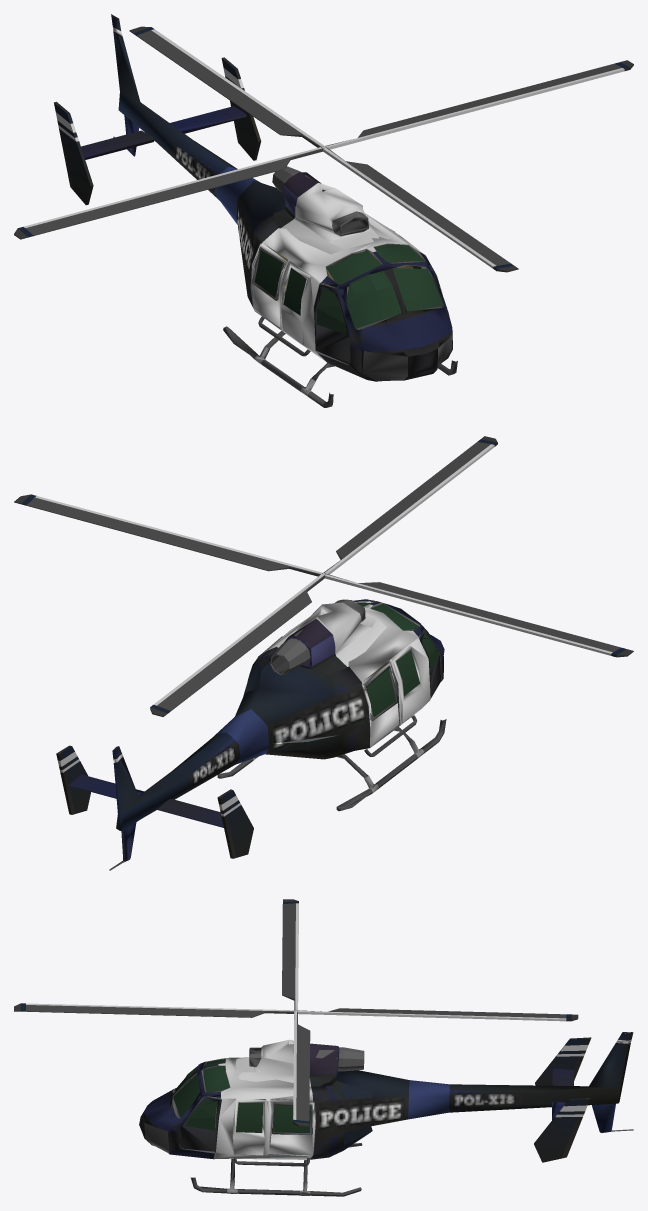
File: bw-police-heli.lod0.glb
3 views of the same model, one above another, from view 1: azimuth 30°, elevation 25°; view 2: azimuth 150°, elevation 25°; view 3: azimuth 270°, elevation 25° (orthographic). The views are drawn at different scales.
Visible parts, largest first — view 1: Object_6, Object_10; view 2: Object_6, Object_10; view 3: Object_6, Object_10.
Boxes of the visible parts, box(x1,y1,x2,y2) form: Object_6: box(14, 14, 633, 407); Object_10: box(254, 244, 443, 334); Object_6: box(14, 436, 633, 870); Object_10: box(356, 602, 438, 716); Object_6: box(14, 899, 633, 1196); Object_10: box(173, 1059, 310, 1132).
Size of the model in its own units: 11.35 by 3.73 by 12.5.
2 materials, 1 textured.
